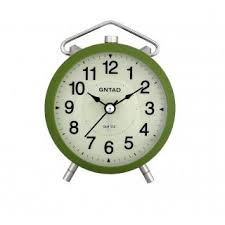alarm_clock: (40, 19, 175, 182), (49, 19, 175, 182)
